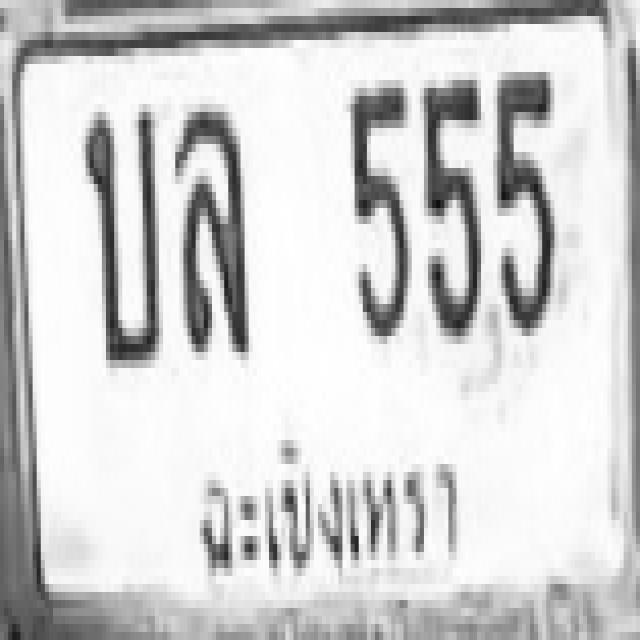35BorBaiMai: (82, 104, 159, 360)
45LorLing: (173, 100, 247, 348)
5: (347, 80, 408, 336), (420, 72, 477, 336), (494, 64, 550, 328)
Chachoengsao: (182, 428, 467, 592)
